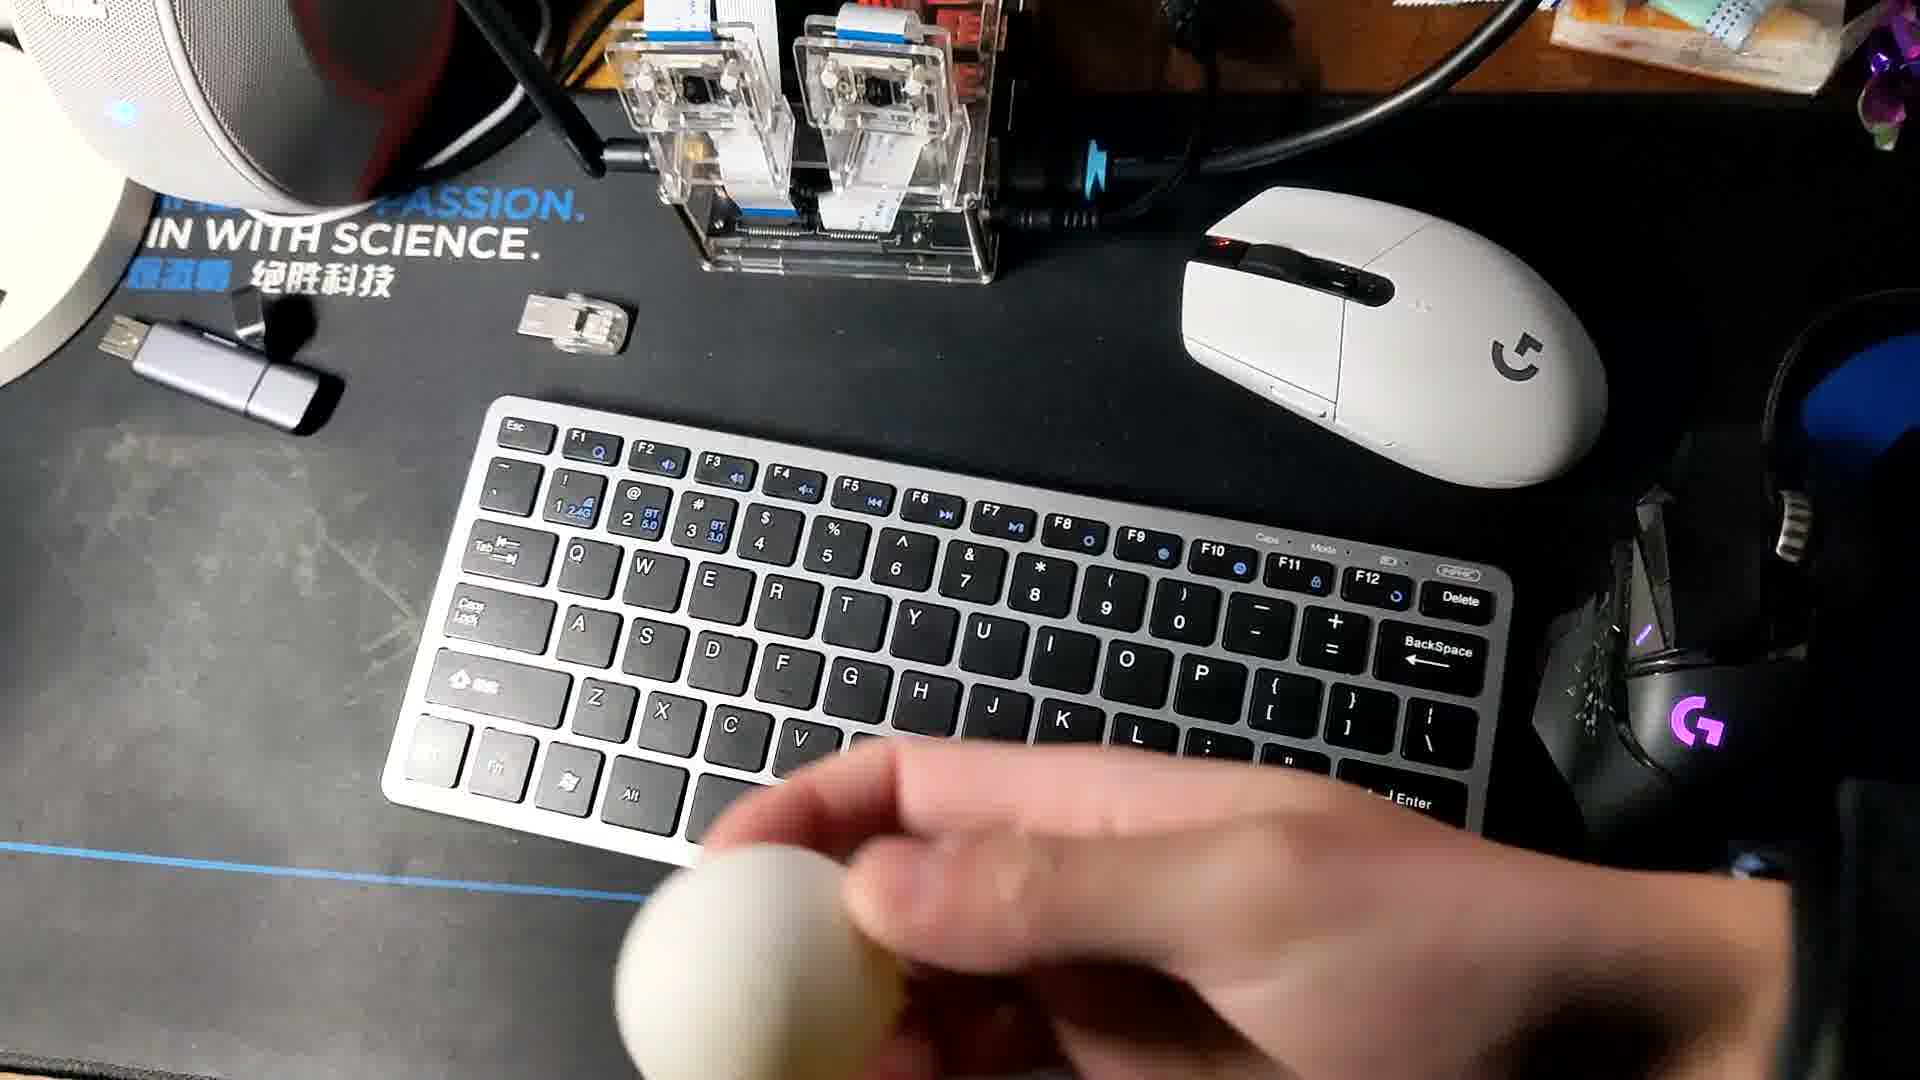Ball: (624, 841, 897, 1080)
